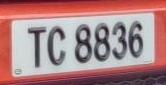3: (111, 19, 130, 65)
6: (127, 17, 146, 63)
8: (72, 19, 95, 69), (92, 19, 113, 68)
C: (44, 21, 70, 72)
T: (23, 22, 49, 73)
